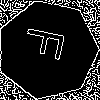F: (23, 24, 74, 64)
